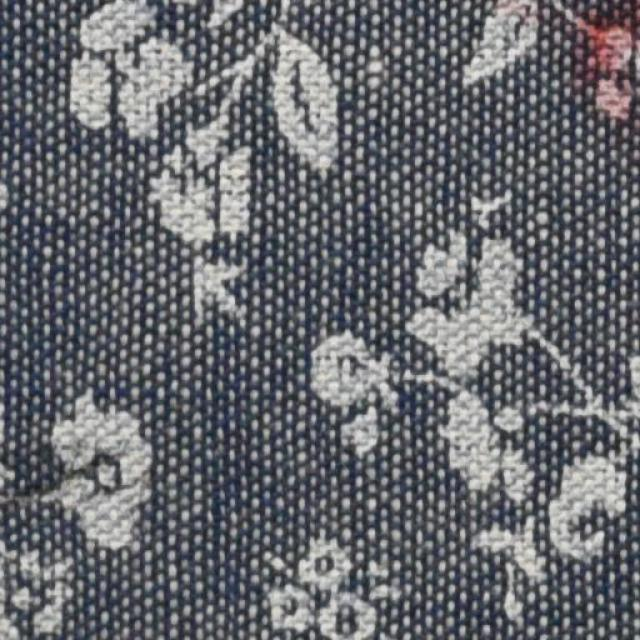Stain: (562, 14, 639, 97)
